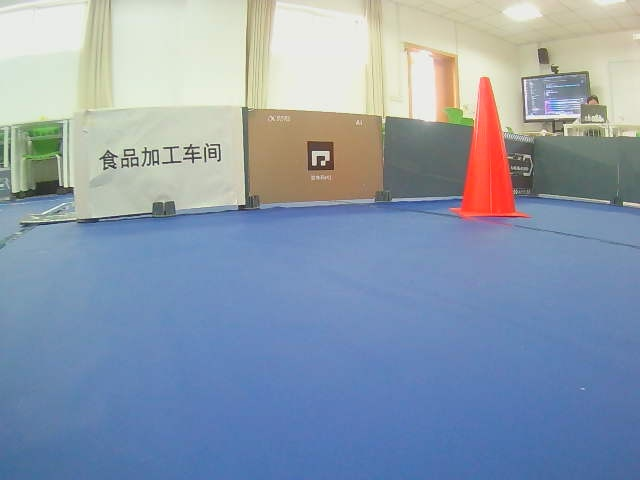target: (97, 142, 223, 172)
